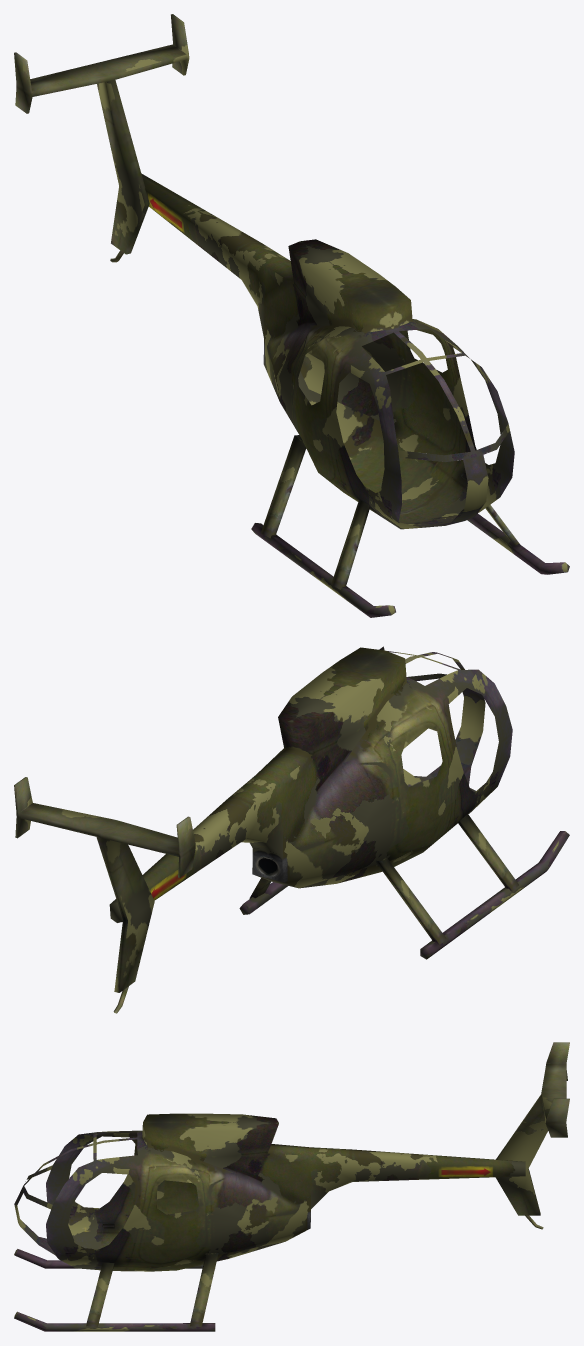
Rendered from MD-500-civil2.fbx.
The picture shows the model from 3 angles, top to bottom: view 1: azimuth 30°, elevation 25°; view 2: azimuth 150°, elevation 25°; view 3: azimuth 270°, elevation 25°; orthographic projection. The views are drawn at different scales.
Visible parts, largest first — view 1: Helicopter; view 2: Helicopter; view 3: Helicopter.
Boxes of the visible parts, x1,y1,x2,y2 form: Helicopter: [14, 14, 569, 617]; Helicopter: [14, 646, 569, 1013]; Helicopter: [14, 1042, 569, 1331].
Bounding box in the file's own units: 310 × 491 × 1098.
